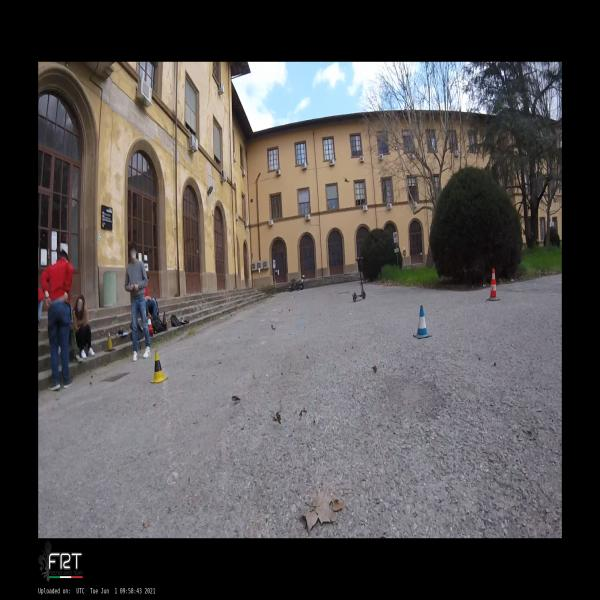blue_cone: (412, 306, 432, 340)
large_orange_cone: (487, 268, 500, 301)
orange_cone: (147, 314, 154, 330)
unknown_cone: (104, 332, 116, 352)
yellow_cone: (150, 350, 168, 384)
